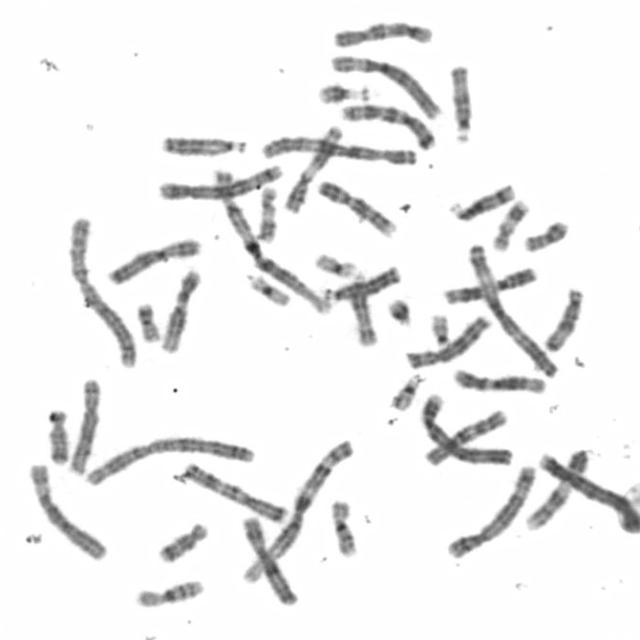A1: (208, 162, 334, 316), (237, 436, 357, 586)
A2: (64, 213, 139, 370), (81, 433, 257, 487)
A3: (465, 238, 559, 377), (257, 132, 419, 168)
B4: (535, 447, 639, 533), (417, 391, 513, 468)
B5: (443, 460, 539, 560), (154, 160, 284, 203)
C10: (423, 408, 508, 467), (330, 17, 432, 49)
C11: (279, 123, 344, 215), (439, 263, 540, 305)
C12: (156, 266, 204, 354), (449, 366, 547, 396)
C6: (25, 458, 111, 562), (326, 50, 443, 120)
C7: (178, 459, 288, 524), (336, 99, 438, 152)
C8: (402, 311, 493, 371), (65, 374, 103, 476)
C9: (521, 446, 592, 532), (314, 176, 398, 239)
D13: (321, 262, 402, 303), (158, 131, 246, 159)
D14: (445, 180, 517, 223), (345, 274, 380, 348)
D15: (539, 284, 587, 354), (447, 61, 474, 145)
E16: (131, 575, 207, 610), (327, 496, 359, 558)
E17: (488, 195, 531, 253), (253, 181, 281, 244)
E18: (153, 519, 210, 565), (44, 406, 72, 466)
F19: (244, 270, 292, 307), (311, 249, 361, 281)
F20: (520, 216, 571, 254), (133, 298, 162, 344)
G21: (314, 79, 372, 106), (384, 295, 415, 328)
G22: (387, 370, 425, 412), (426, 309, 455, 349)
X: (238, 512, 299, 607), (102, 233, 204, 286)
